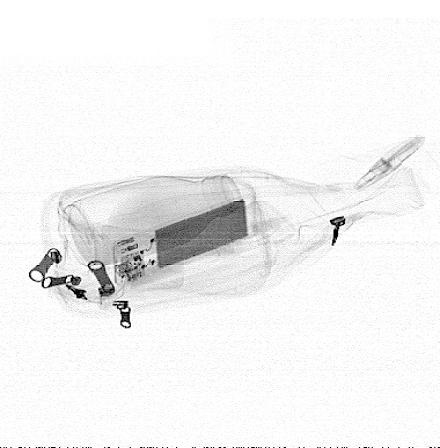Powerbank: (114, 194, 256, 286)
